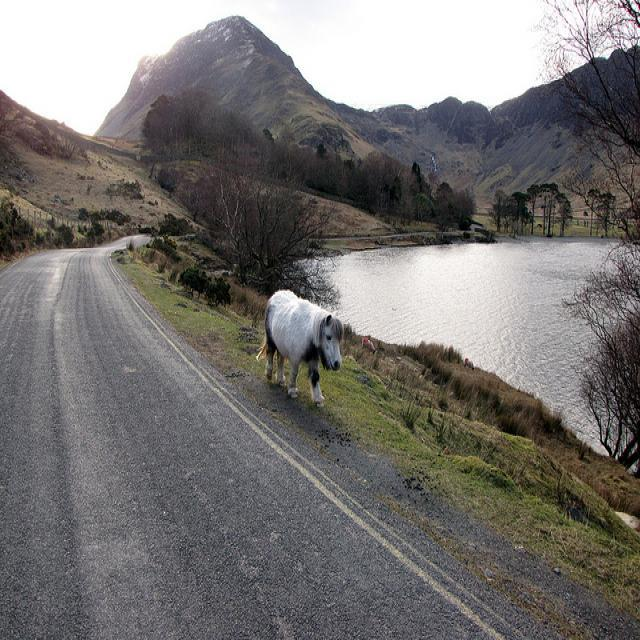cow: (254, 287, 342, 408)
